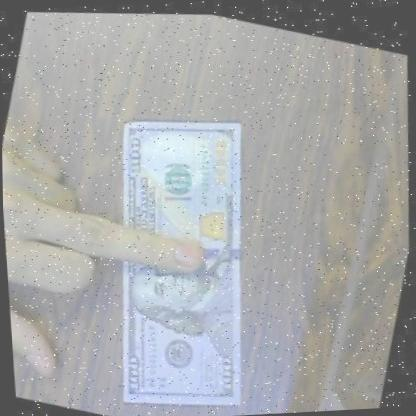one_hundred-front: (51, 80, 310, 416)
